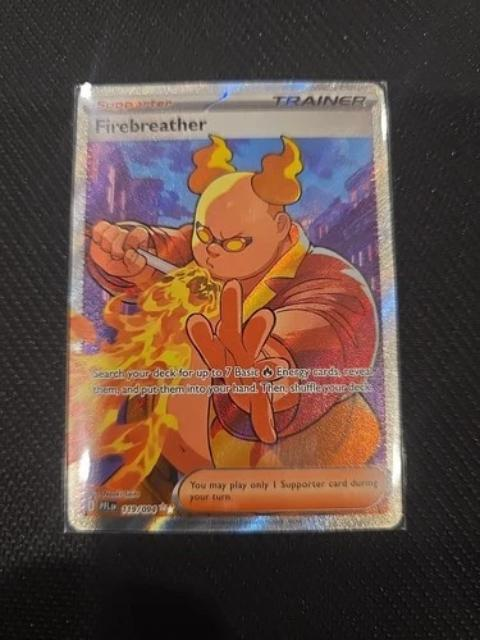Card: (61, 77, 412, 538)
Name: (88, 113, 213, 136)
